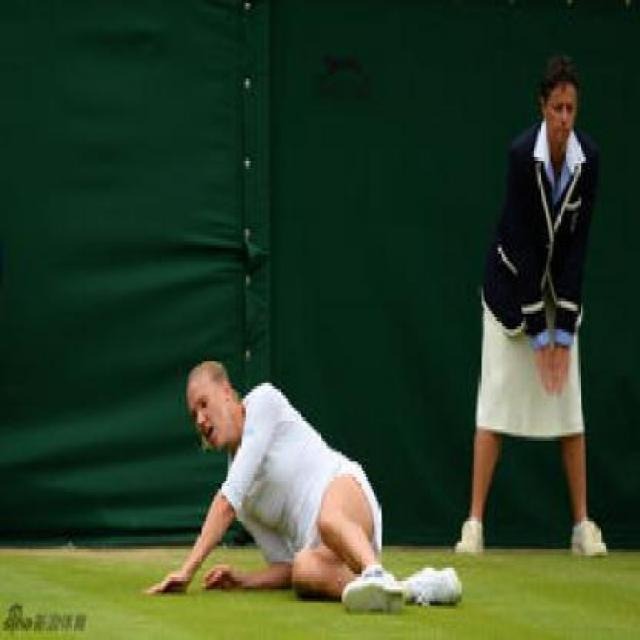fall: (136, 342, 452, 609)
